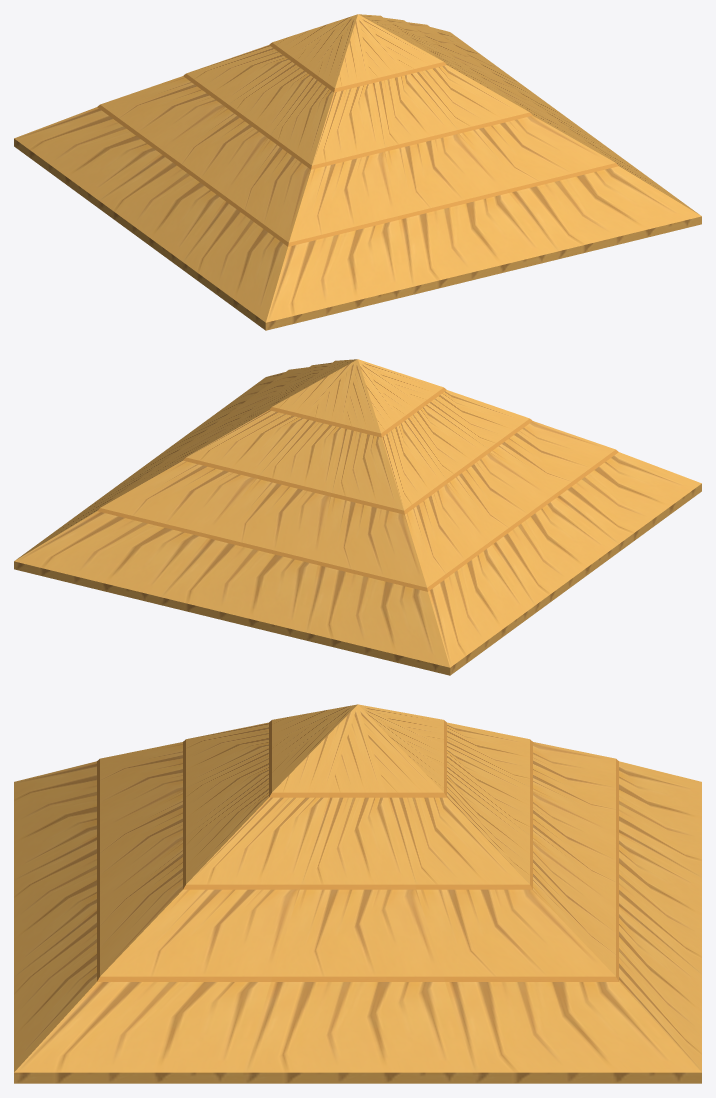
Rendered from rc_wa_roof_thatchhip_8x8.glb.
3 renders of one model, top to bottom at view 1: azimuth 30°, elevation 25°; view 2: azimuth 150°, elevation 25°; view 3: azimuth 270°, elevation 25°, orthographic. The views are drawn at different scales.
Parts seen in each view (by area): view 1: SM_RC_WA_ThatchHip_8x8; view 2: SM_RC_WA_ThatchHip_8x8; view 3: SM_RC_WA_ThatchHip_8x8.
Boxes of the visible parts, <box> form: SM_RC_WA_ThatchHip_8x8: <box>14,14,701,330</box>; SM_RC_WA_ThatchHip_8x8: <box>14,359,701,675</box>; SM_RC_WA_ThatchHip_8x8: <box>14,704,701,1083</box>.
Bounding box in the file's own units: 8 × 3 × 8.
1 material, 1 textured.
